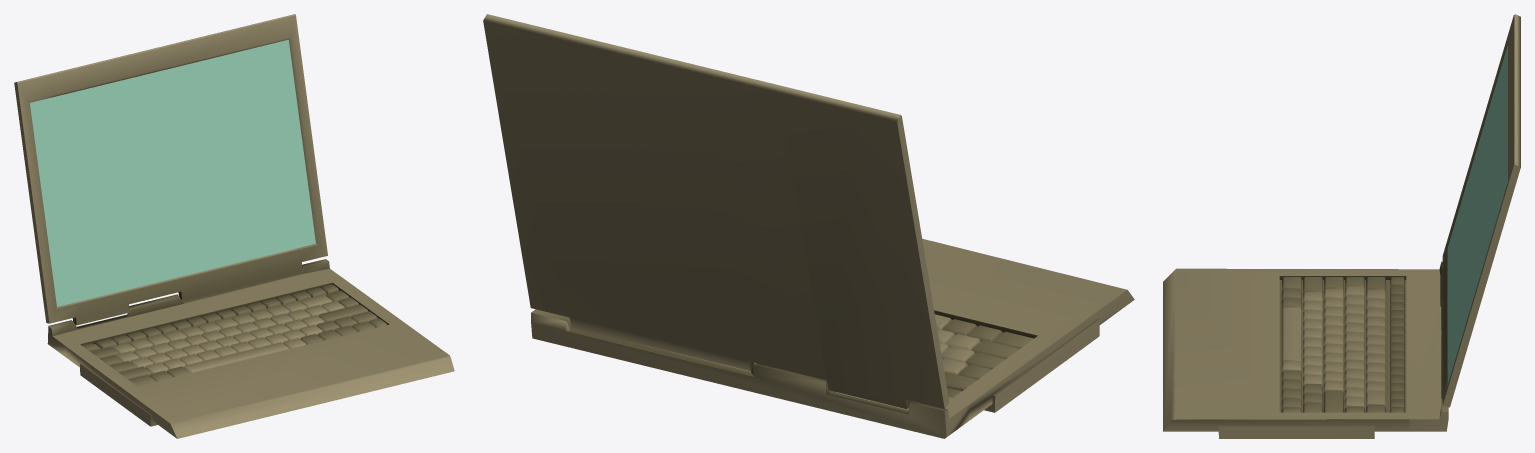
Rendered from human-electronics-retro-laptop_v1.glb.
3 views of the same model, side by side, from view 1: azimuth 30°, elevation 25°; view 2: azimuth 150°, elevation 25°; view 3: azimuth 270°, elevation 25° (orthographic). The views are drawn at different scales.
Parts seen in each view (by area): view 1: Retro Laptop.001, Retro Laptop; view 2: Retro Laptop.001; view 3: Retro Laptop.001, Retro Laptop.
Part boxes in pixels (x1,y1,x2,y2): Retro Laptop.001: [14, 14, 454, 438]; Retro Laptop: [30, 40, 315, 306]; Retro Laptop.001: [483, 14, 1134, 438]; Retro Laptop.001: [1163, 14, 1520, 438]; Retro Laptop: [1448, 44, 1507, 383].
Bounding box in the file's own units: 0.35 × 0.2942 × 0.349.
